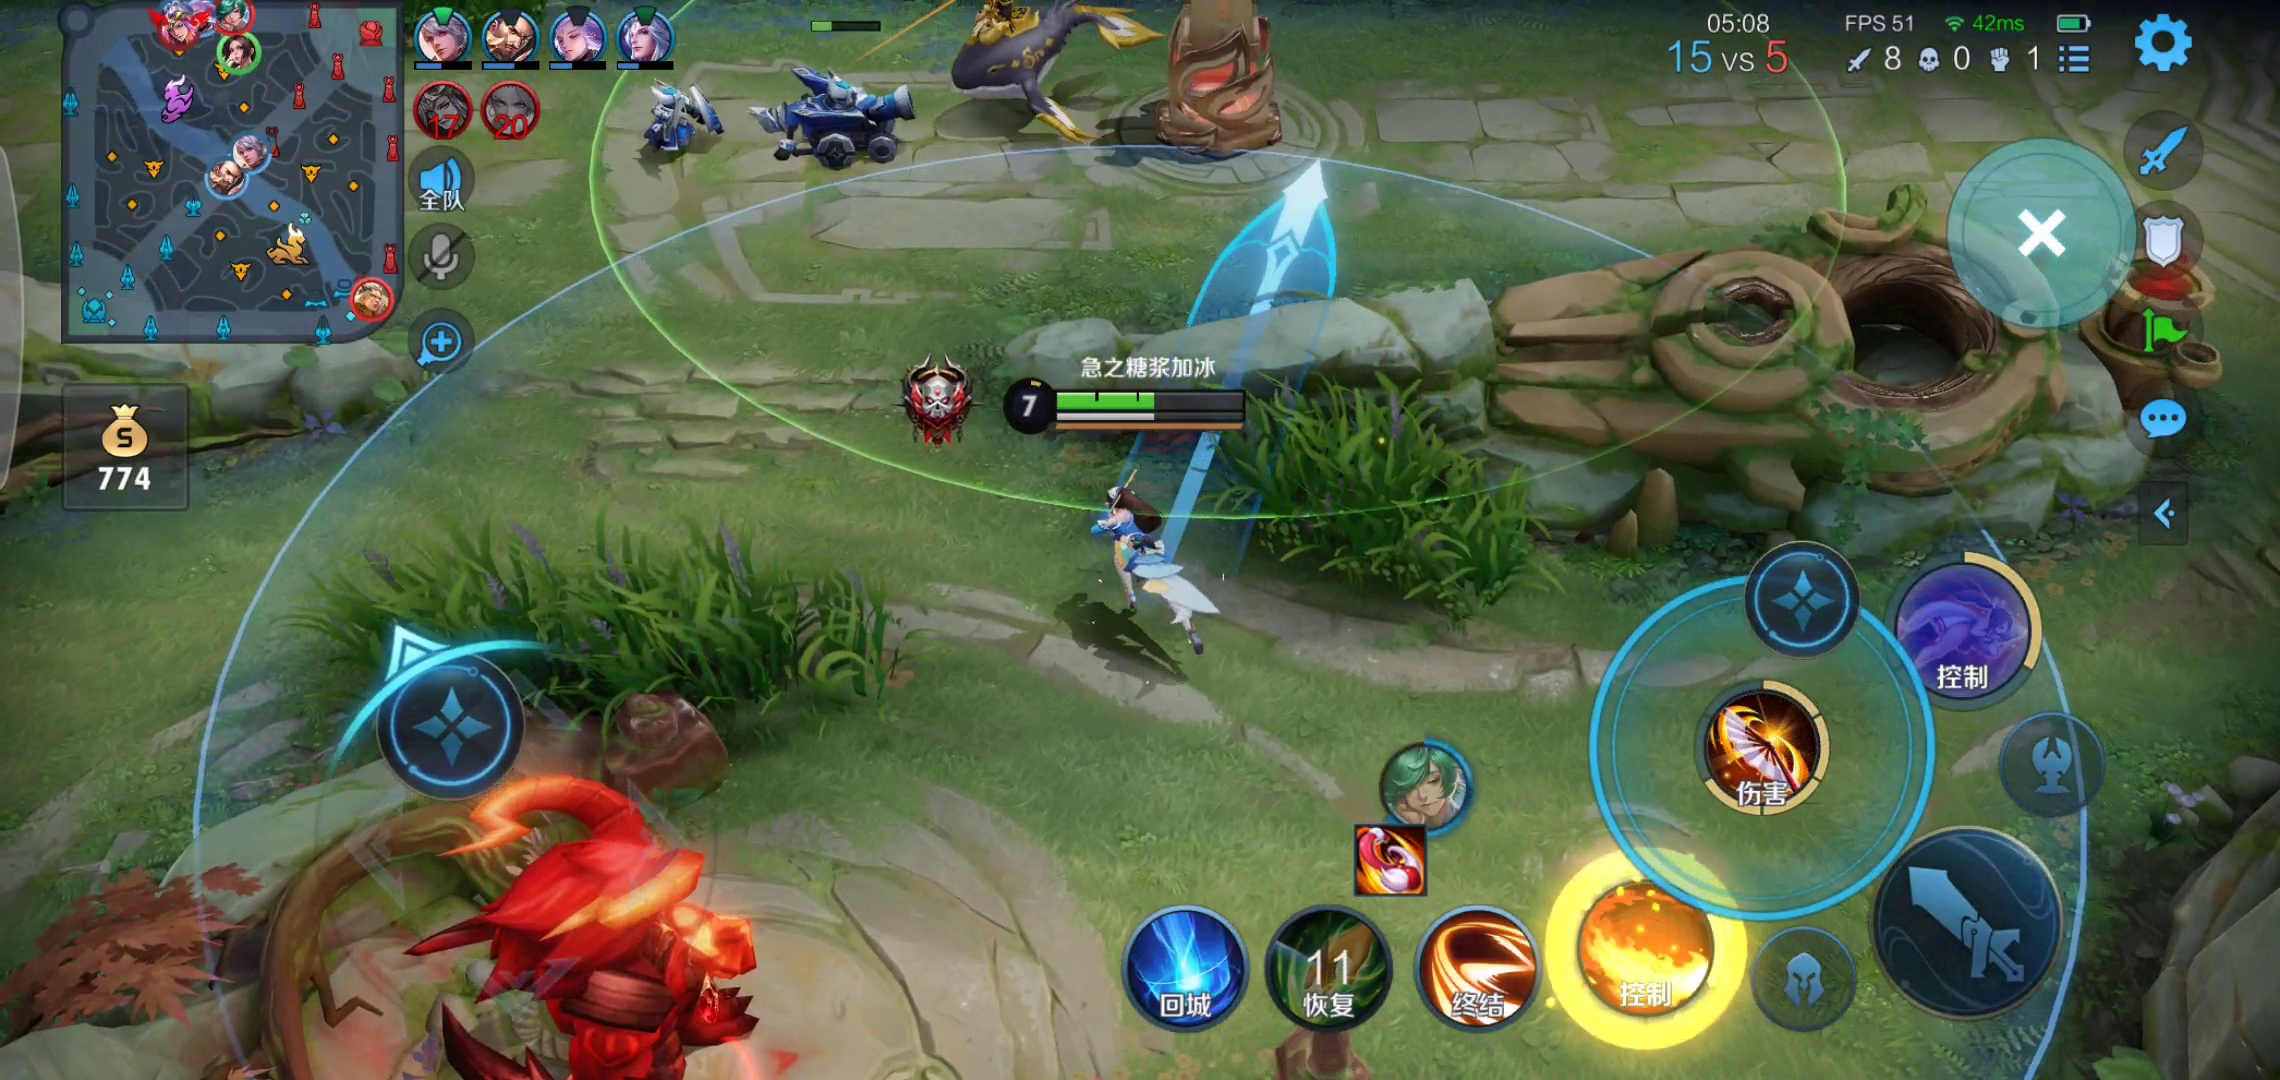buff: (401, 805, 788, 1080)
grass: (281, 551, 891, 722), (1248, 379, 1520, 613)
hero: (1061, 478, 1237, 664), (952, 1, 1120, 142)
soldier: (766, 64, 910, 177), (627, 68, 744, 169)
tower: (1128, 1, 1307, 167)
